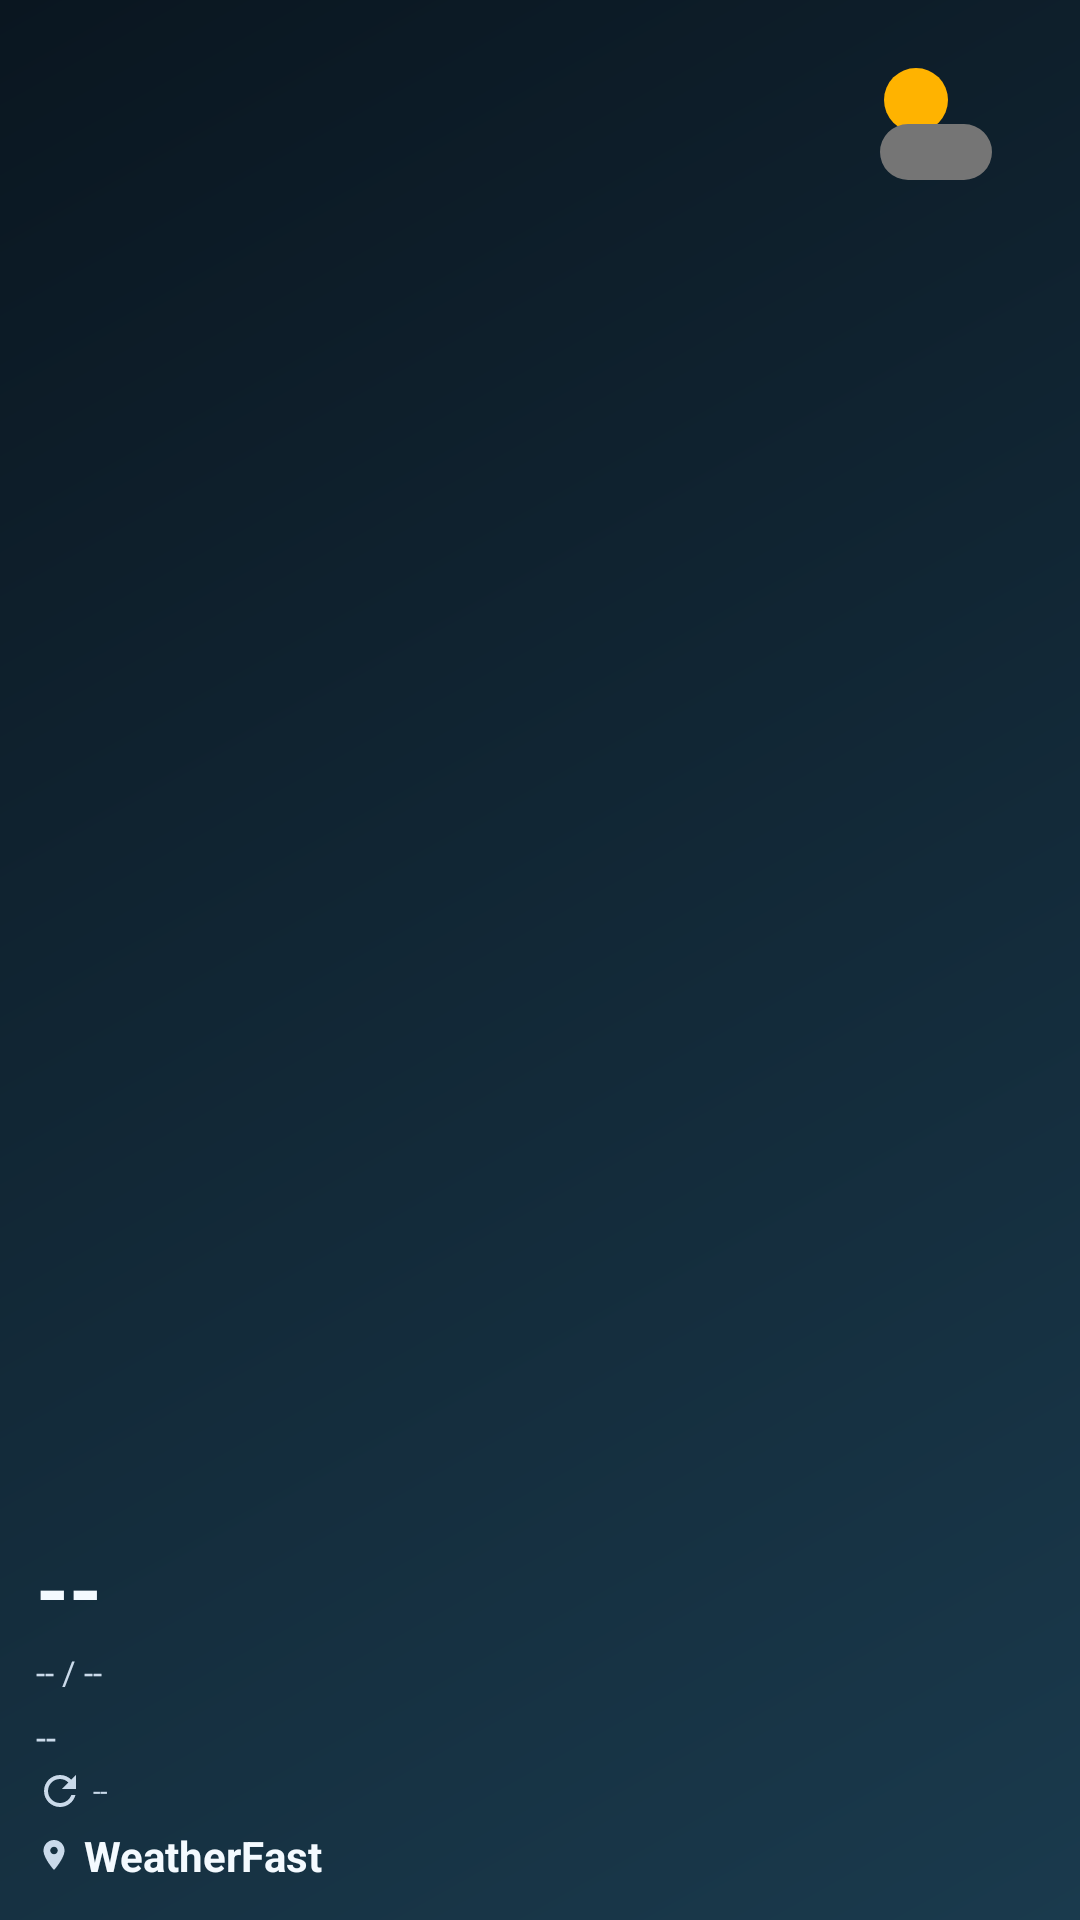

Icon click points for this 1080×1920 phone screenshot, format (x,y):
location: (54,1855)
partly: (936,124)
refresh: (60,1791)
